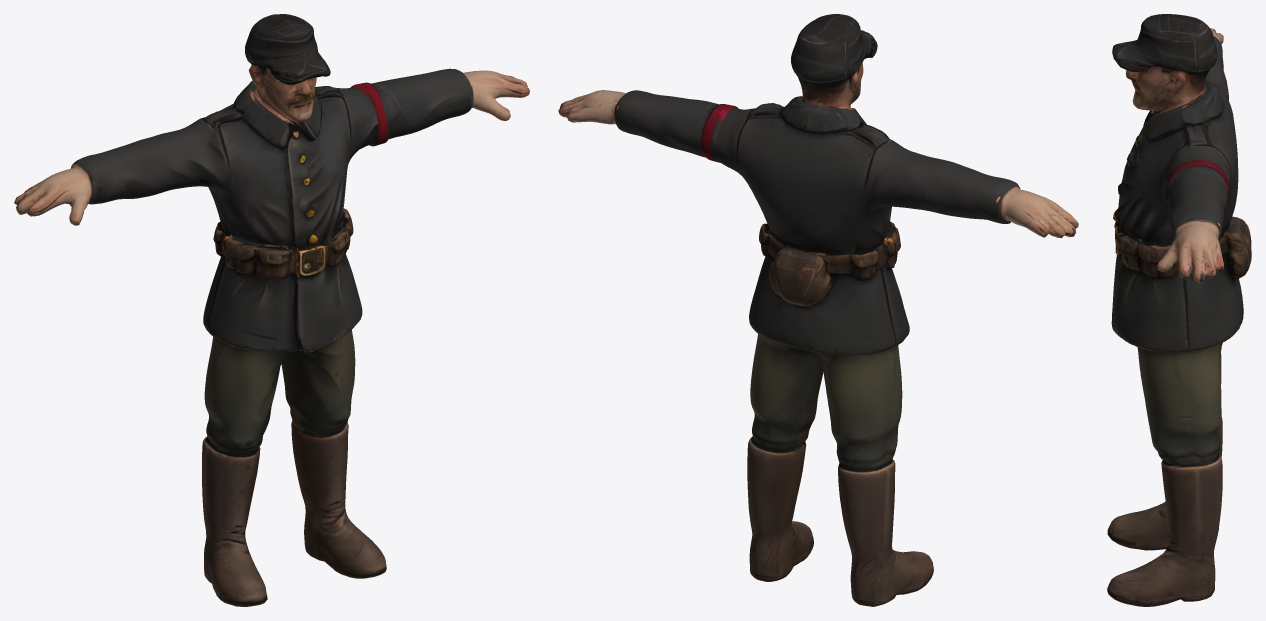
File: soldado_1_mixamo.fbx
The picture shows the model from 3 angles, left to right: view 1: azimuth 30°, elevation 25°; view 2: azimuth 150°, elevation 25°; view 3: azimuth 270°, elevation 25°; orthographic projection.
Visible parts, largest first — view 1: soldado_1; view 2: soldado_1; view 3: soldado_1.
Part boxes in pixels (x1,y1,x2,y2): soldado_1: (14, 14, 529, 606); soldado_1: (558, 14, 1078, 606); soldado_1: (1107, 14, 1251, 606).
Size of the model in its own units: 166 by 172 by 40.64.
1 material, 1 textured.
